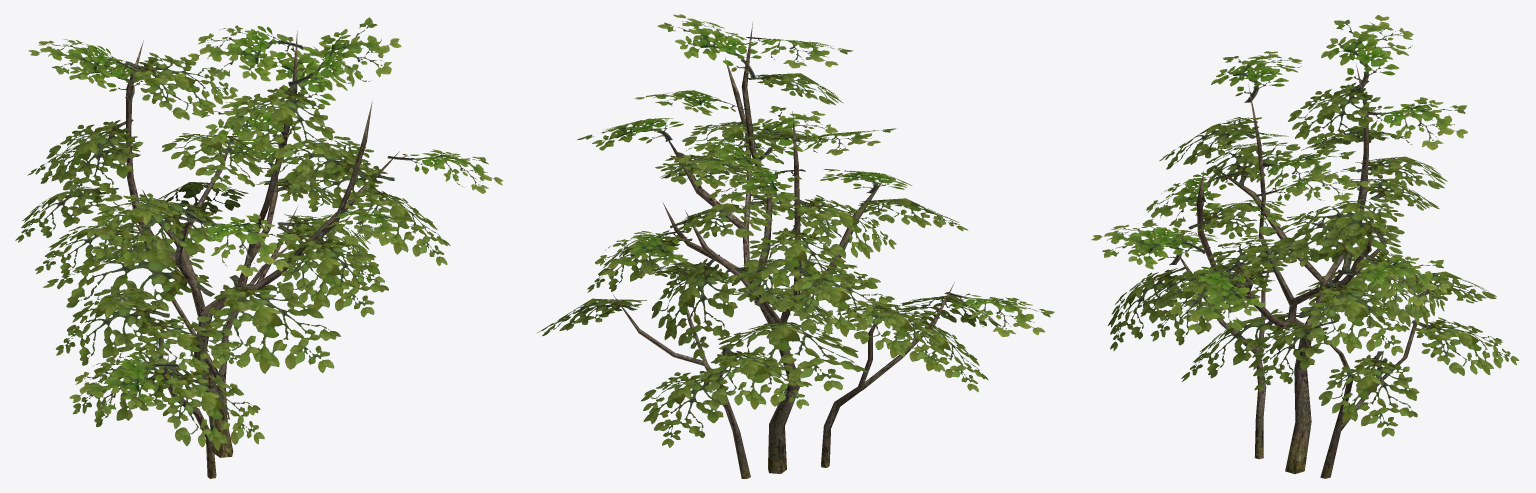
The model's file is m_zhiwu_010.FBX.
The picture shows the model from 3 angles, left to right: view 1: azimuth 30°, elevation 25°; view 2: azimuth 150°, elevation 25°; view 3: azimuth 270°, elevation 25°; orthographic projection. The views are drawn at different scales.
Parts seen in each view (by area): view 1: m_zhiwu_010; view 2: m_zhiwu_010; view 3: m_zhiwu_010.
Boxes of the visible parts, bbox=[...] form: m_zhiwu_010: bbox=[15, 17, 502, 478]; m_zhiwu_010: bbox=[537, 14, 1054, 478]; m_zhiwu_010: bbox=[1091, 15, 1519, 478].
Bounding box in the file's own units: 157 × 144 × 136.
